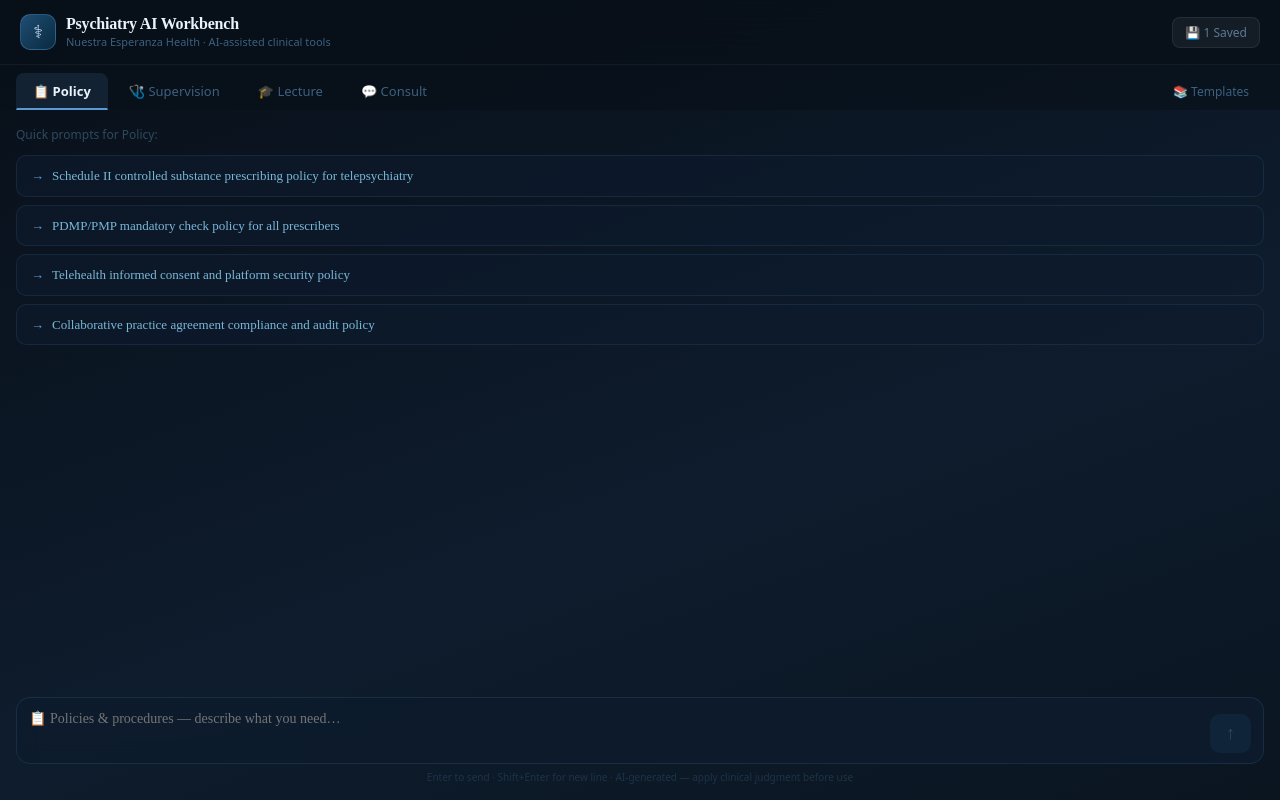
Test: PsychiatryWorkbench › loads saved responses persisted in localStorage
Click the button "💾 1 Saved".
click(1216, 32)  # box x1=1172 y1=16 x2=1260 y2=48
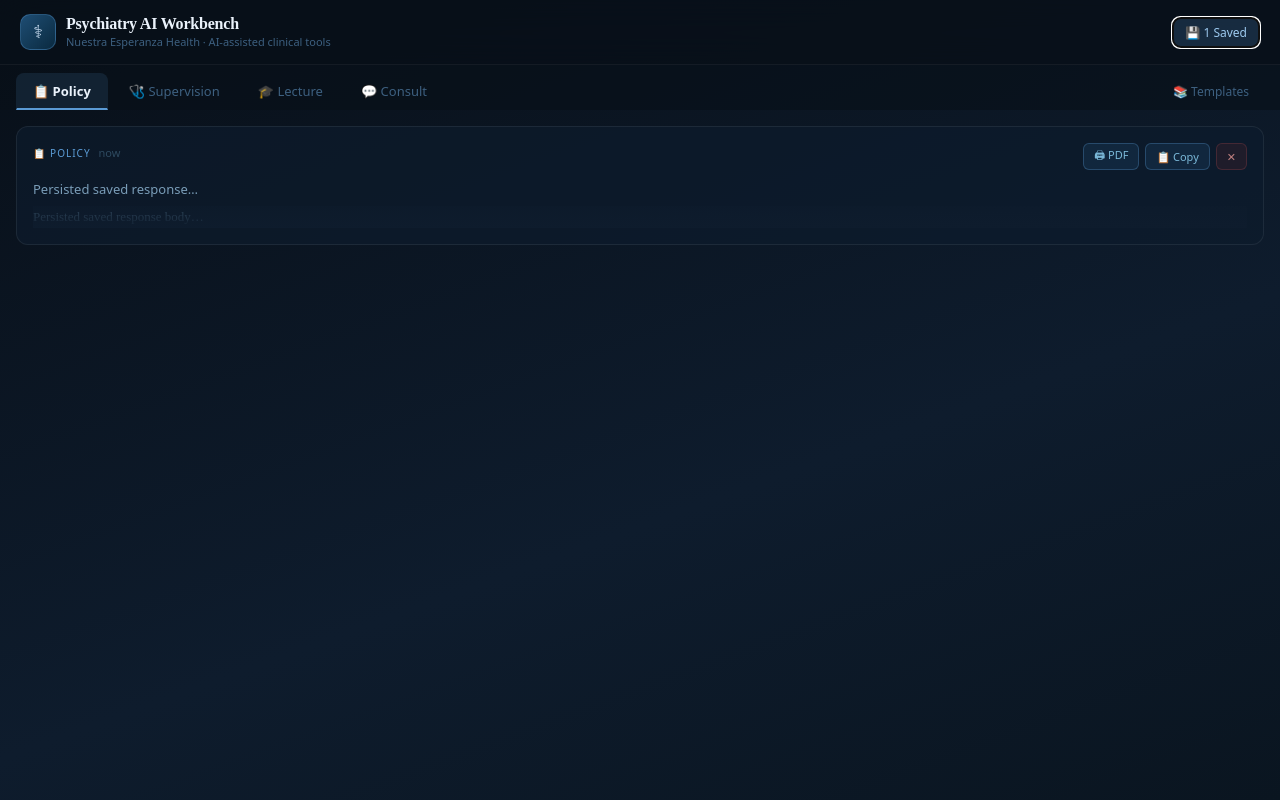
Now the text "Persisted saved response…" is shown, box x1=33 y1=180 x2=198 y2=198
Now the text "Persisted saved response body…" is shown, box x1=33 y1=206 x2=1247 y2=228
